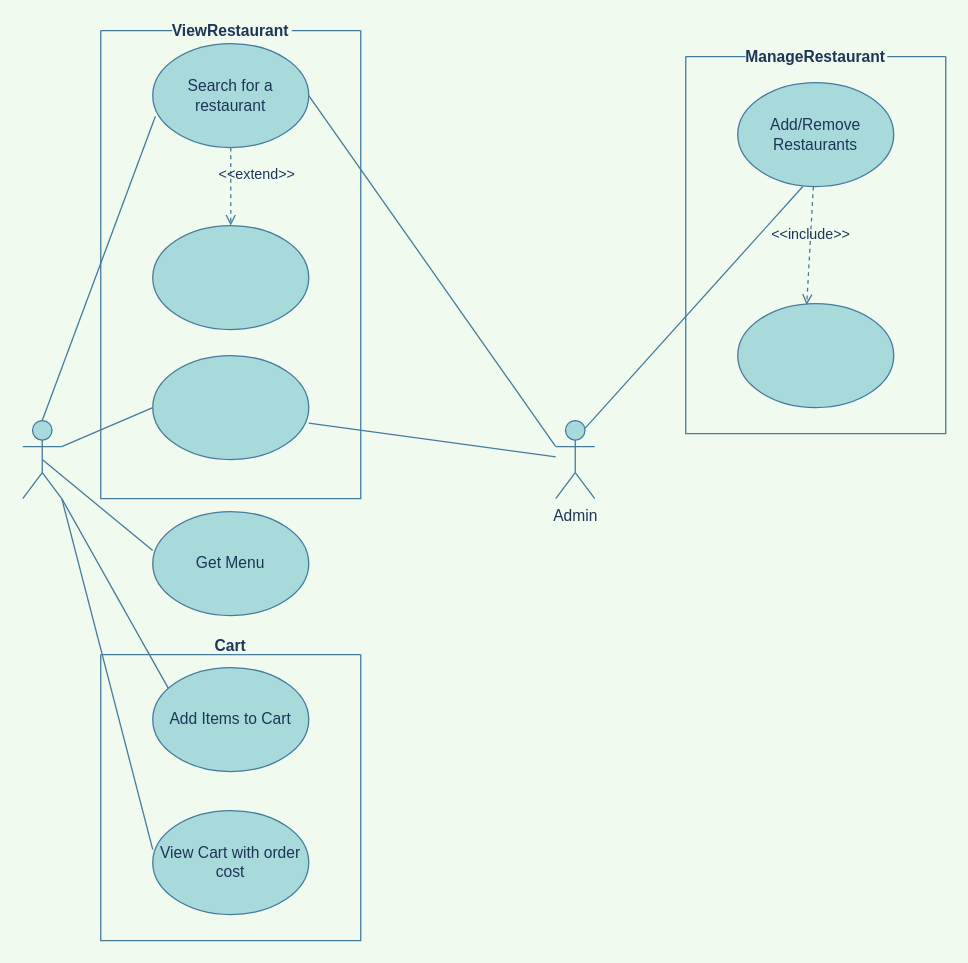
This 968x963 diagram has some shape labels left out. The shapes that lost their labels are listed below. From the top down, each one's centre as x and y in pixels, then its label:
[230,277]: Error: Restaurant could not be found
[815,355]: Update Restaurant Menu
[230,407]: View Restaurant Details
[41,459]: User
